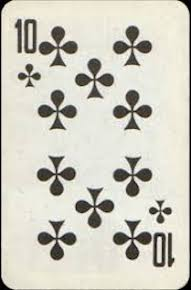TenOfClubs: (2, 2, 190, 289)
